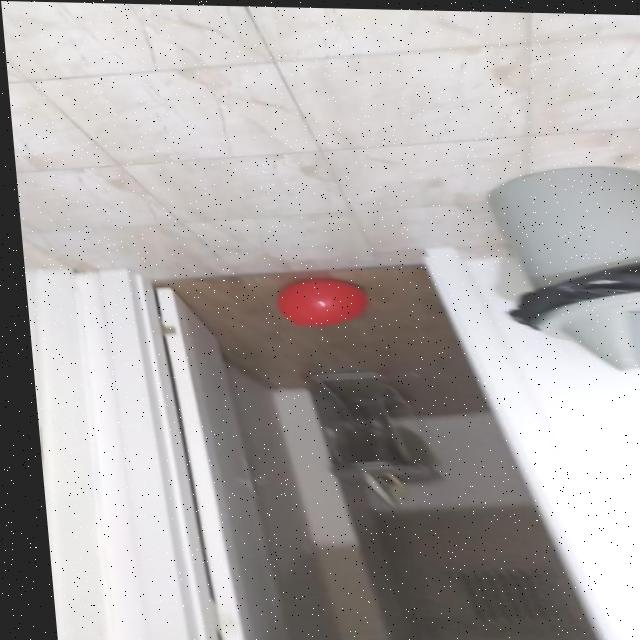balloon: (255, 273, 379, 336)
